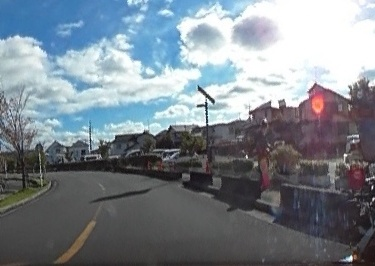person: (254, 120, 271, 189)
